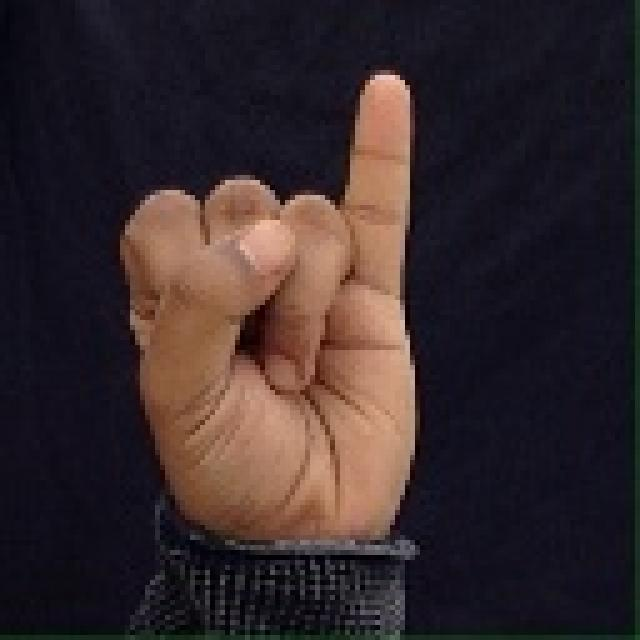Six: (67, 42, 510, 610)
